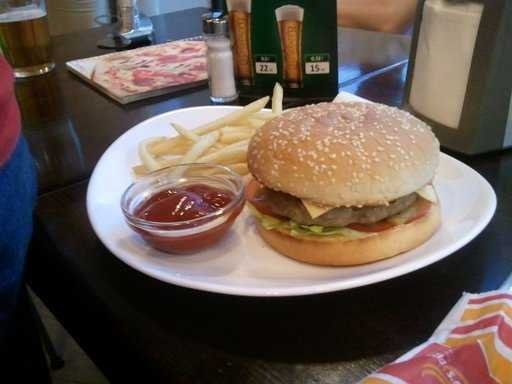hamburger: (245, 92, 456, 257)
